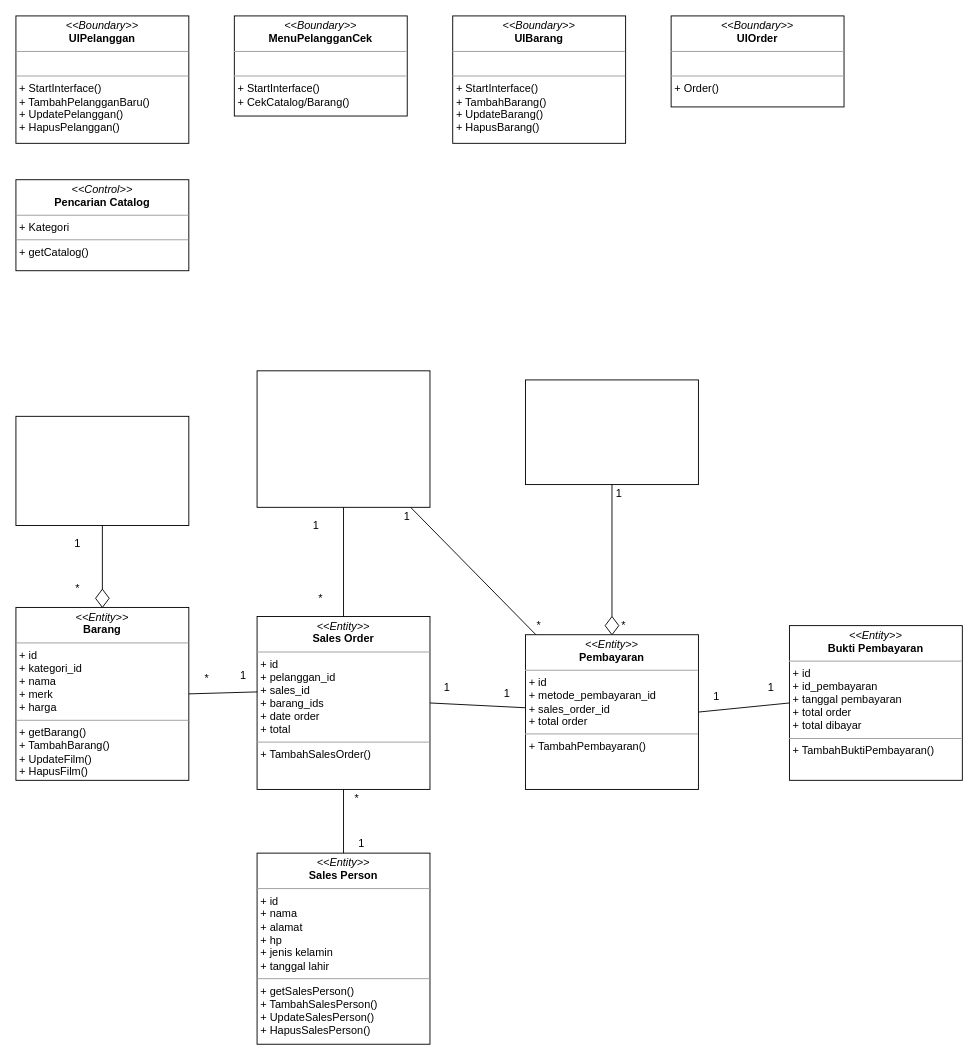
The diagram is 978 pixels wide and 1060 high, and some of its shapes have lost their labels. The centre of each missing label's shape, as x and y in pixels:
<<Entity>> Kategori Barang + id + nama kategori + getKategori(): [102,470]
<<Entity>> Metode Pembayaran + id + Nama Metode + getMetodePembayaran(): [611,432]
<<Entity>> Pelanggan + id + email + InputEmail() + Pilihmetodepembayaran(): [343,438]
